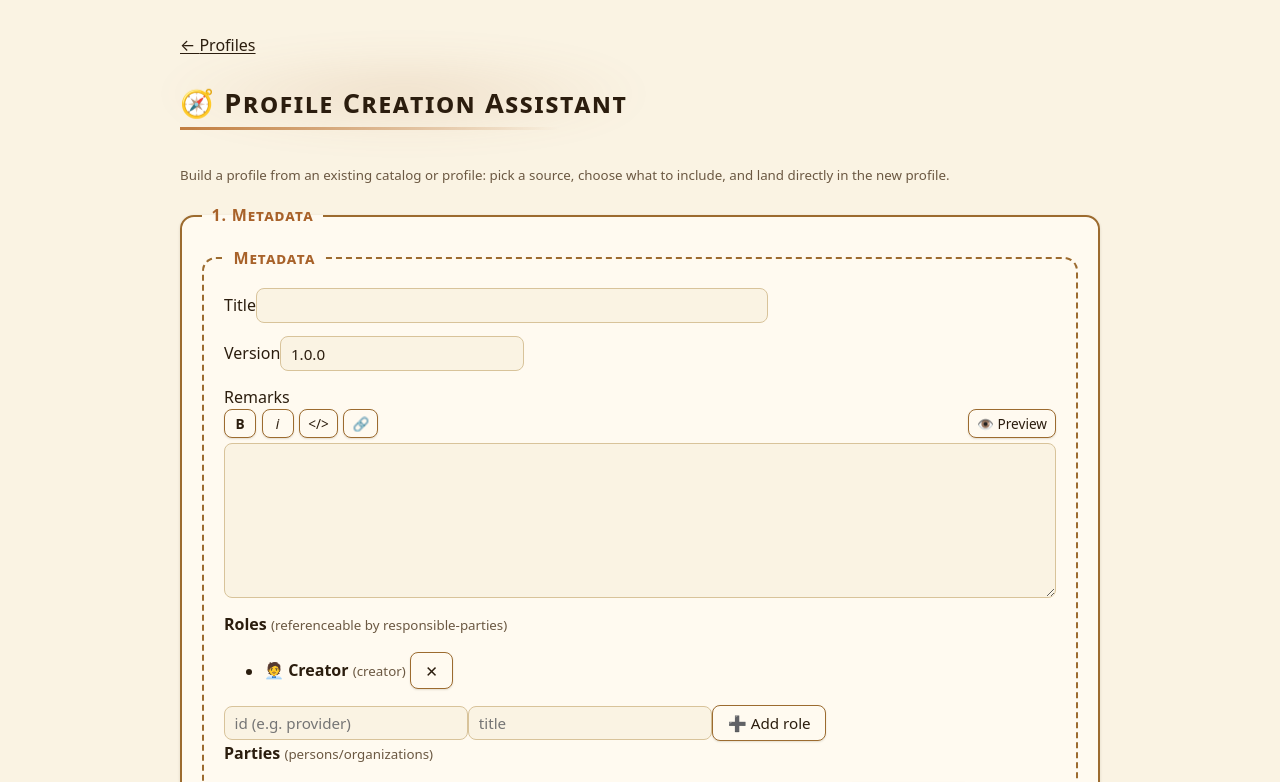
Test: target-object inclusion mode › the "product description only" filter narrows to tagged controls
The width and height of the screenshot is (1280, 782).
Type "Assistant Profile" into the field with test id "md-title" at (512, 305), box [256,288,768,323]
(page scrolled)
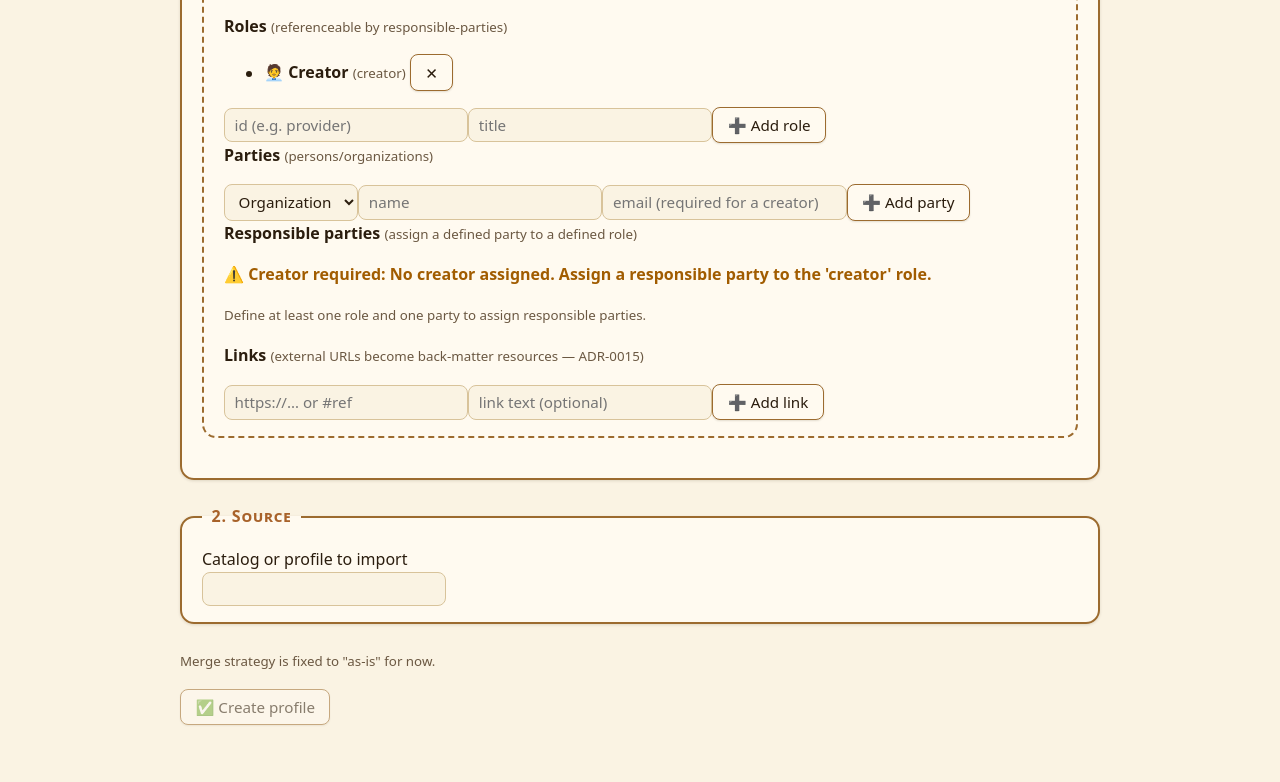
Type "Grundschutz" into the field with test id "profile-assistant-source-picker-input" at (324, 589), box [202,572,446,606]
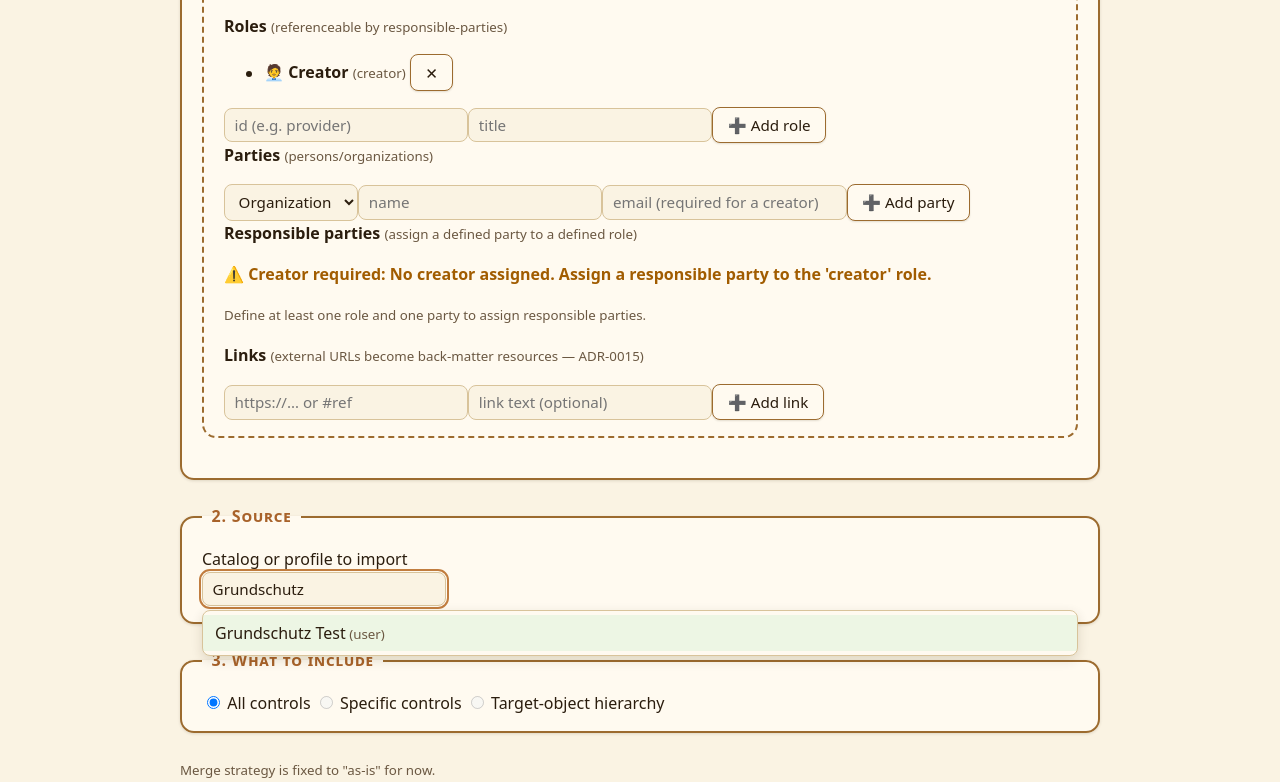
Click the list item "Grundschutz Test" at (640, 633), box [203,615,1077,651]
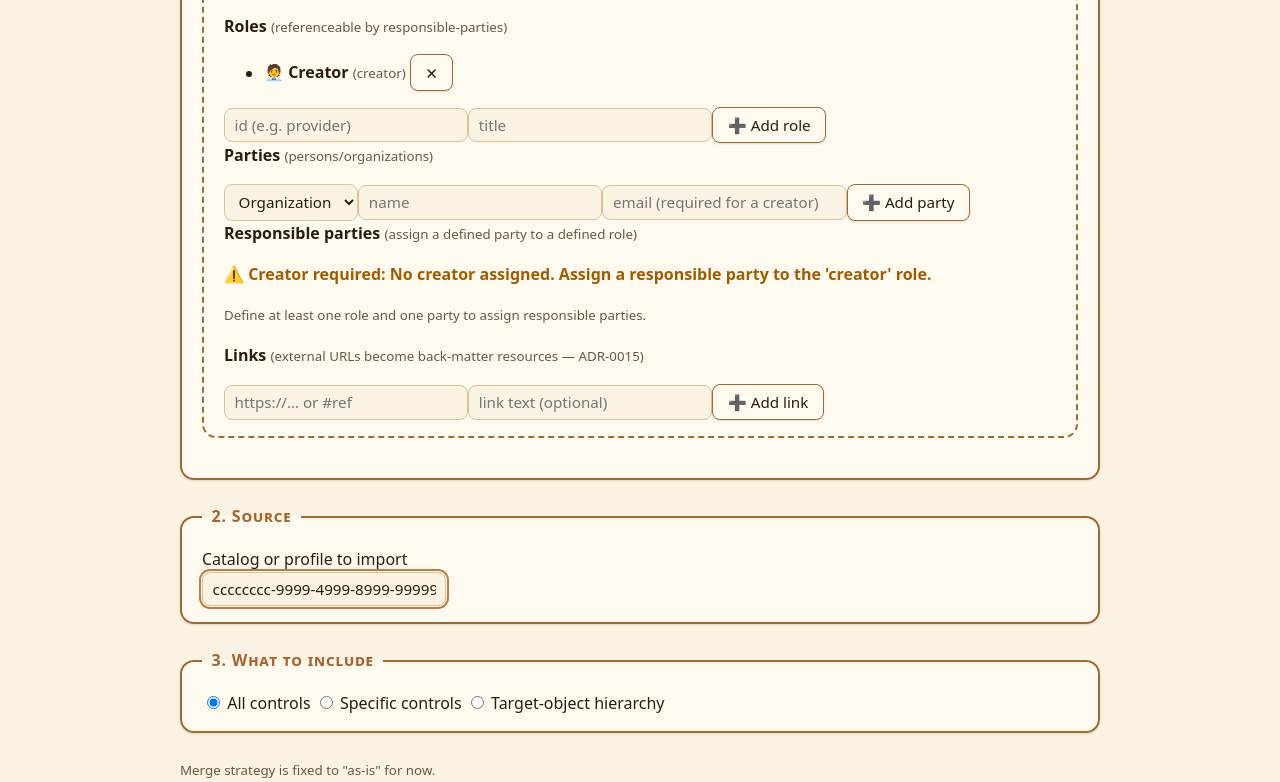
Click the radio button with test id "profile-assistant-mode-target-object" at (477, 702), box [471,696,484,709]
(page scrolled)
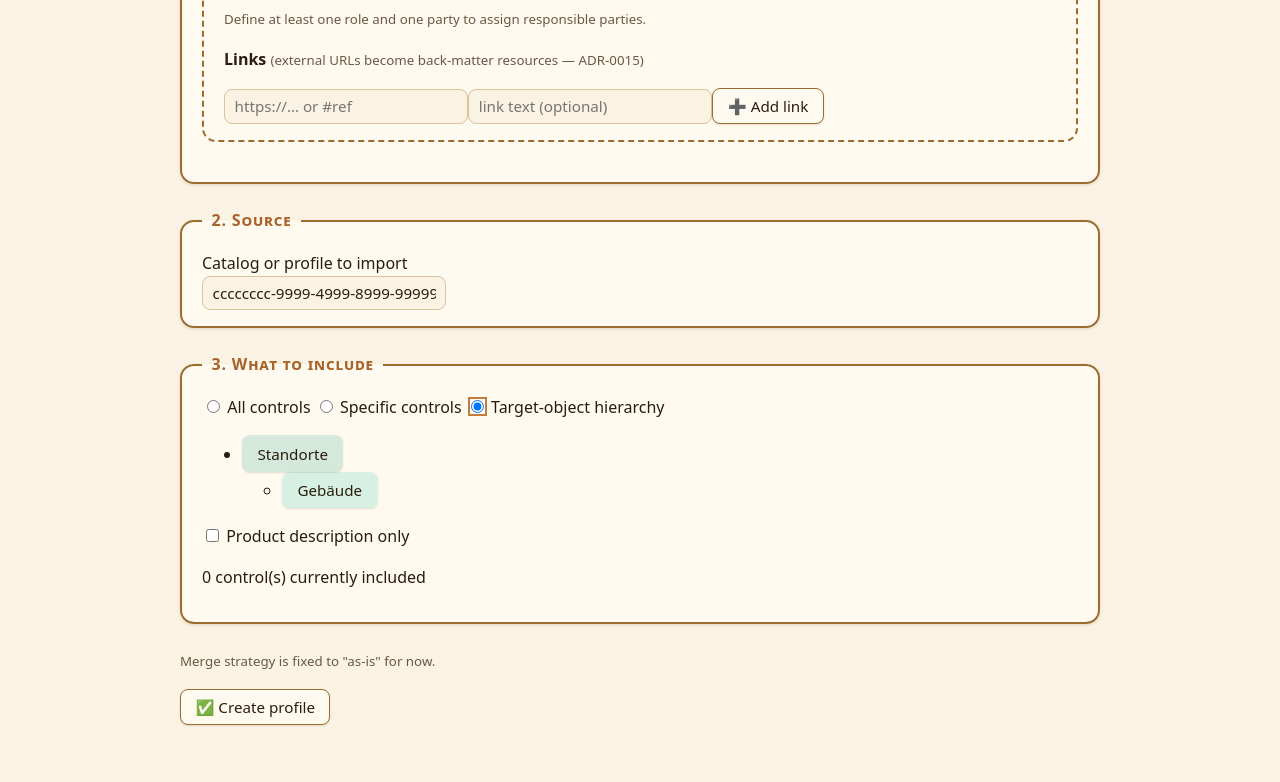
Click the button "Gebäude" at (330, 490), box [282,472,378,508]
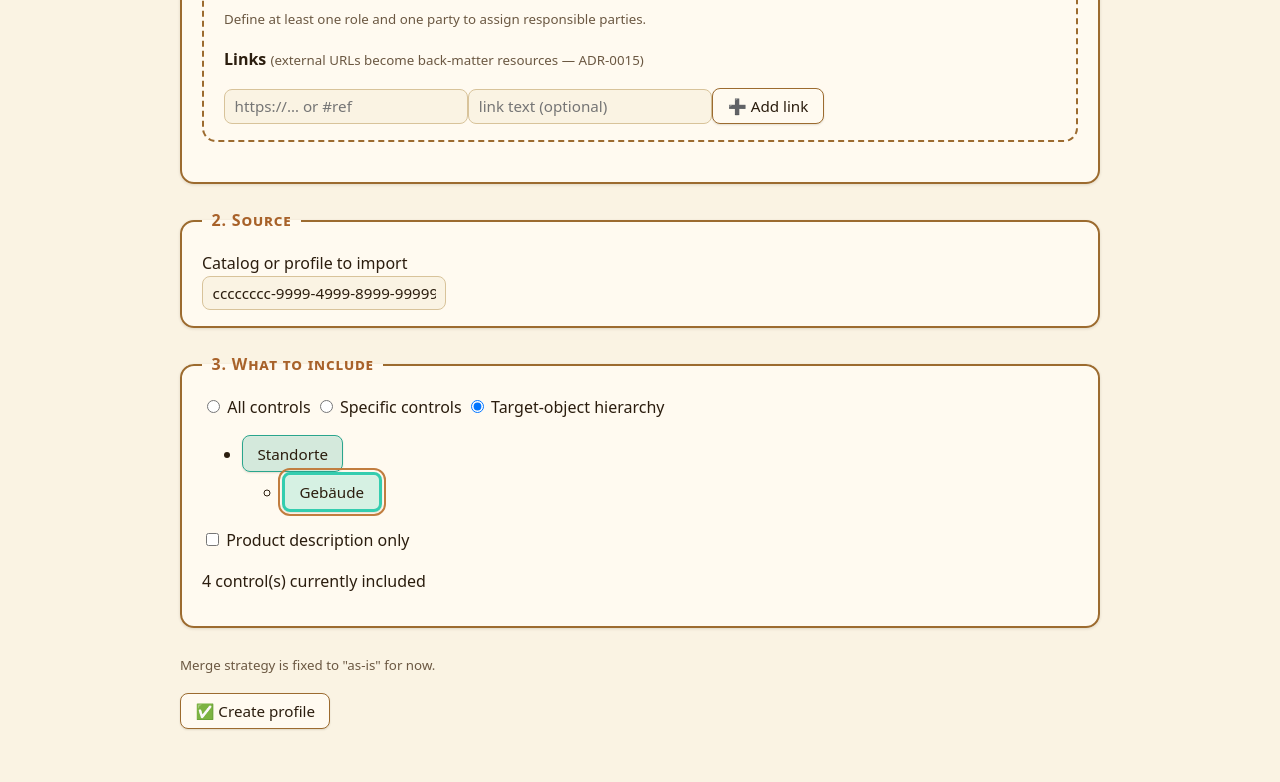
Result: the text with test id "target-object-match-count" shows "4" at [202,570,426,592]
Click the checkbox with test id "target-object-product-spec-only" at (212, 540), box [206,533,219,546]
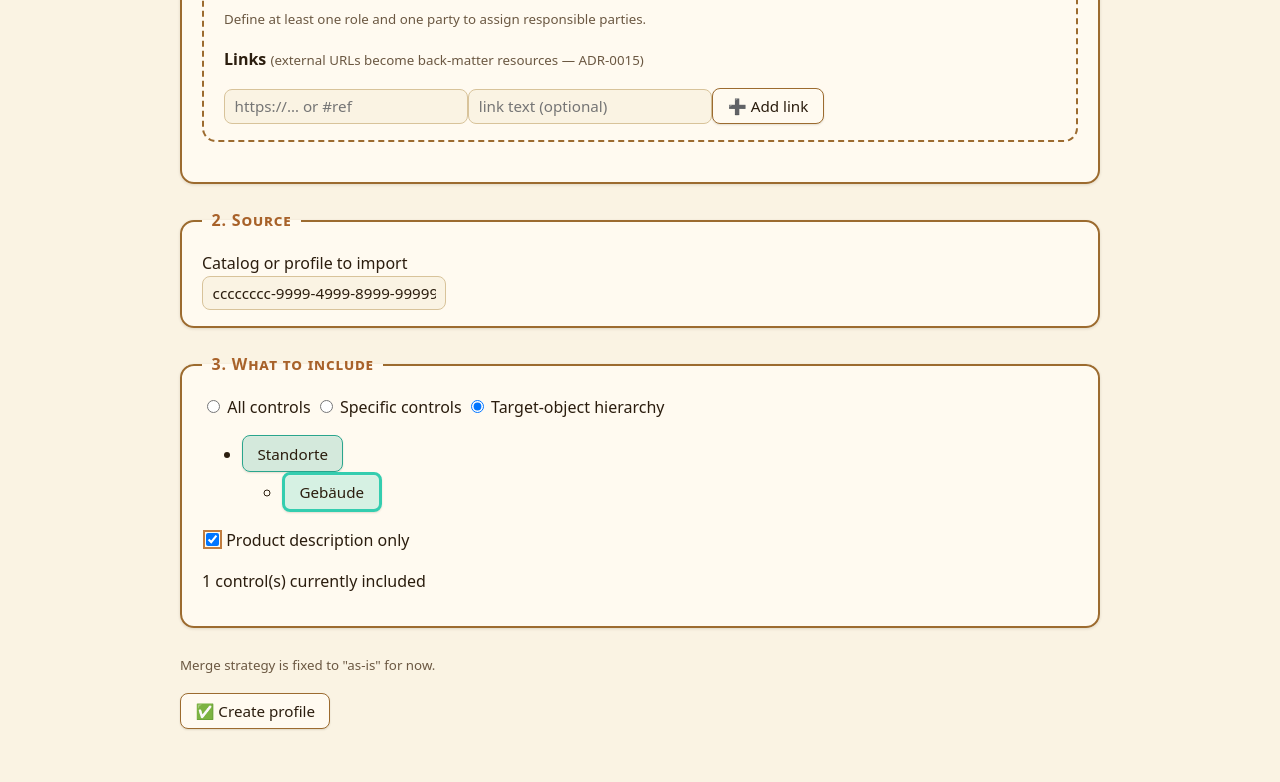
Result: the text with test id "target-object-match-count" shows "1" at [202,570,426,592]
